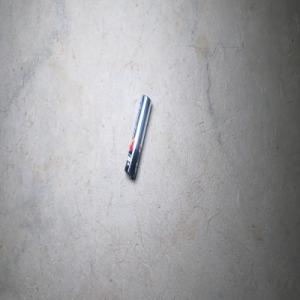Battery: (124, 94, 152, 178)
